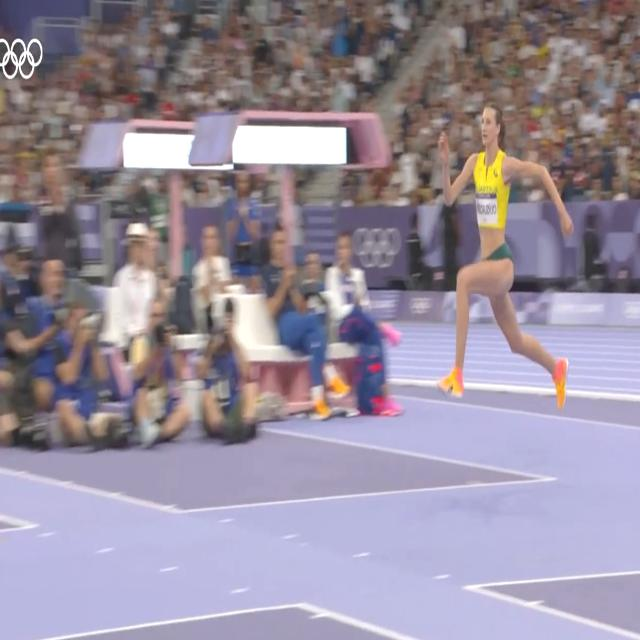run: (432, 104, 574, 410)
